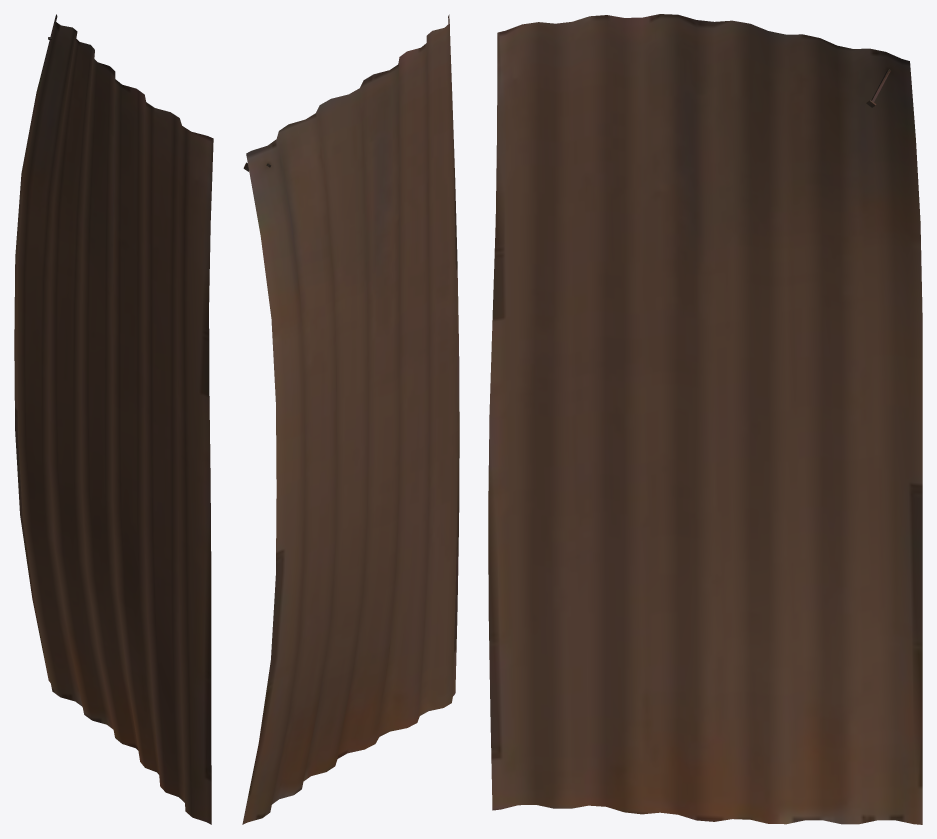
The picture shows the model from 3 angles, left to right: view 1: azimuth 30°, elevation 25°; view 2: azimuth 150°, elevation 25°; view 3: azimuth 270°, elevation 25°; orthographic projection. The views are drawn at different scales.
Parts seen in each view (by area): view 1: body0_model0_lod0_mesh0; view 2: body0_model0_lod0_mesh0; view 3: body0_model0_lod0_mesh0.
Boxes of the visible parts, x1,y1,x2,y2 form: body0_model0_lod0_mesh0: [14, 14, 213, 824]; body0_model0_lod0_mesh0: [242, 14, 459, 824]; body0_model0_lod0_mesh0: [488, 14, 922, 824].
Size of the model in its own units: 9.04 by 95.95 by 47.97.
Materials: 1 (1 with a texture image).
